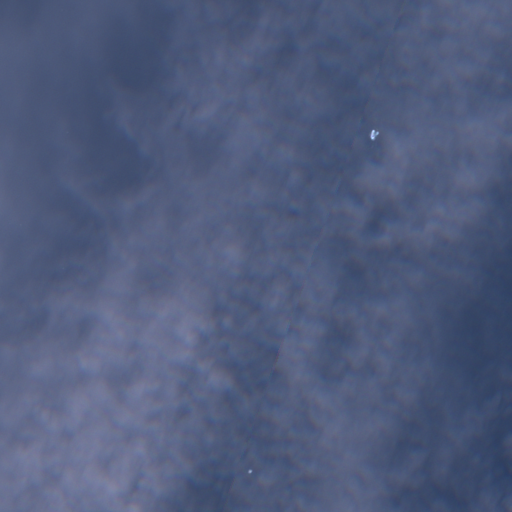Iceberg: (370, 130, 378, 140), (248, 469, 252, 473)
